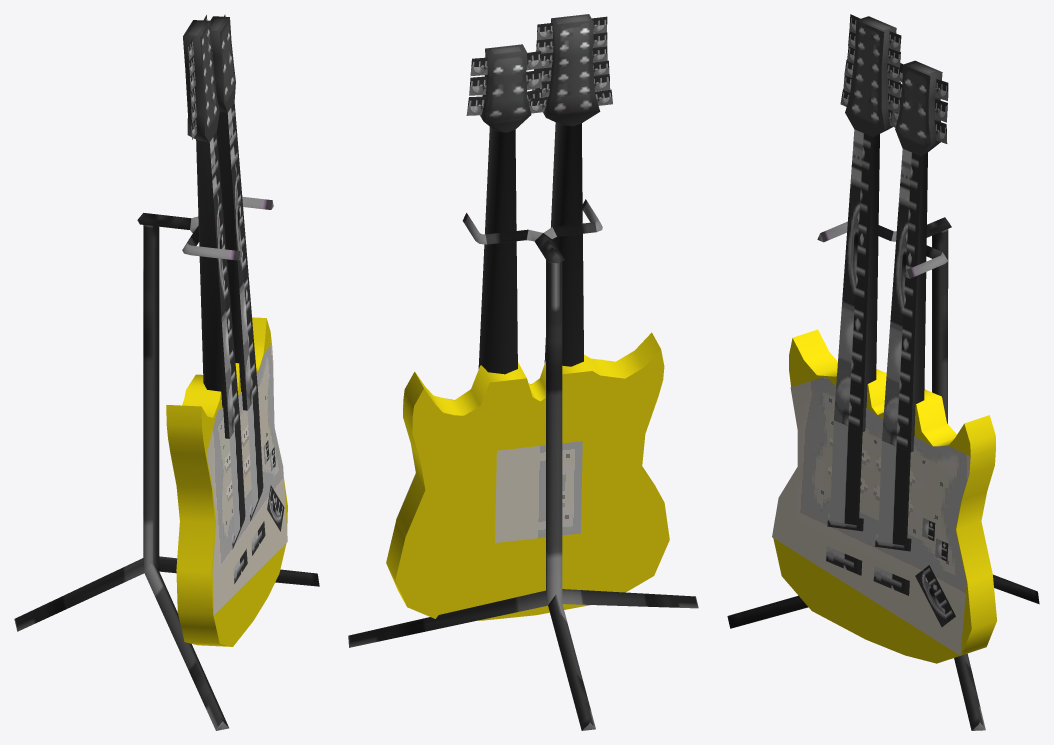
The model's file is rmk_gtr_EgtrW.dae.
The picture shows the model from 3 angles, left to right: view 1: azimuth 30°, elevation 25°; view 2: azimuth 150°, elevation 25°; view 3: azimuth 270°, elevation 25°; orthographic projection.
Parts seen in each view (by area): view 1: rmk_gtr_EgtrW; view 2: rmk_gtr_EgtrW; view 3: rmk_gtr_EgtrW.
Boxes of the visible parts, <box> form: rmk_gtr_EgtrW: <box>14,14,319,730</box>; rmk_gtr_EgtrW: <box>348,14,698,730</box>; rmk_gtr_EgtrW: <box>727,14,1039,730</box>.
Bounding box in the file's own units: 21.72 × 47.9 × 21.68.
4 materials, 4 textured.
